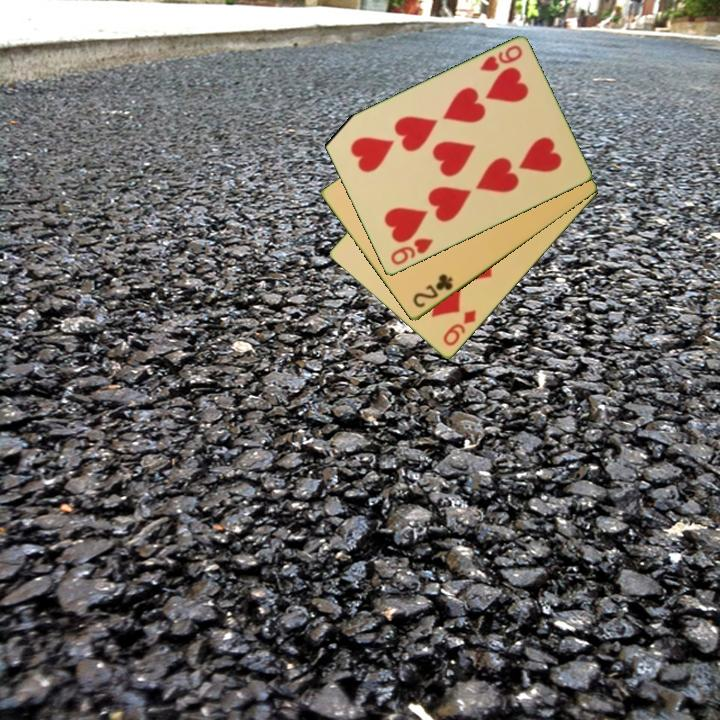2c: (409, 271, 456, 311)
9d: (439, 306, 479, 349)
9h: (387, 235, 436, 268), (476, 42, 525, 75)
